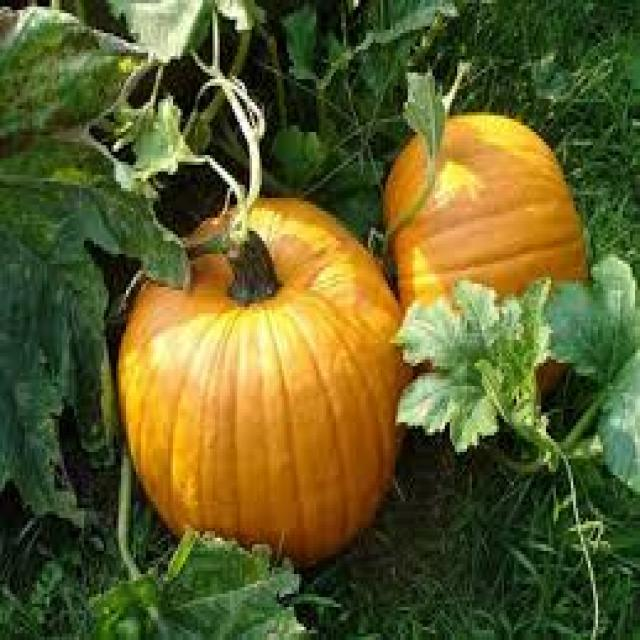organic waste: (114, 195, 408, 564), (0, 3, 198, 515), (373, 109, 586, 396), (396, 270, 554, 446), (84, 518, 316, 637), (548, 248, 638, 492)
